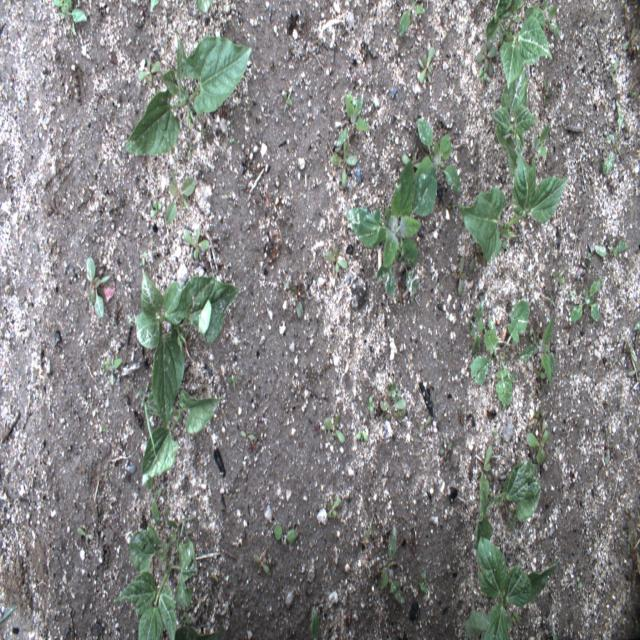crop: (134, 268, 242, 434), (124, 28, 252, 154), (457, 150, 572, 262), (464, 534, 561, 640), (111, 522, 198, 639), (138, 389, 226, 488), (470, 299, 530, 408), (474, 458, 541, 554), (486, 0, 554, 90), (491, 55, 538, 184)
weed: (346, 158, 437, 310), (414, 118, 461, 191), (516, 308, 555, 384), (374, 524, 405, 604), (336, 91, 371, 147), (568, 276, 605, 322), (166, 168, 195, 225), (86, 256, 111, 321), (526, 407, 548, 465), (331, 141, 357, 190), (379, 375, 406, 419), (469, 288, 486, 357), (399, 0, 425, 39), (146, 461, 161, 526), (284, 278, 308, 318), (183, 229, 209, 260), (532, 120, 552, 159), (476, 40, 496, 77), (320, 413, 344, 443), (53, 0, 87, 21), (593, 239, 629, 258), (479, 444, 492, 494), (543, 1, 560, 39), (101, 356, 122, 386), (418, 46, 434, 84), (326, 247, 348, 274), (137, 58, 160, 82), (452, 257, 466, 296), (274, 524, 298, 546), (253, 547, 269, 574), (327, 494, 341, 519), (438, 438, 453, 460), (310, 606, 320, 638)
